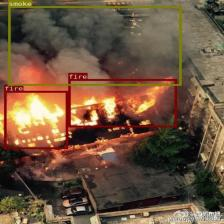fire: (68, 79, 176, 127), (4, 91, 68, 148)
smoke: (8, 6, 181, 85)
